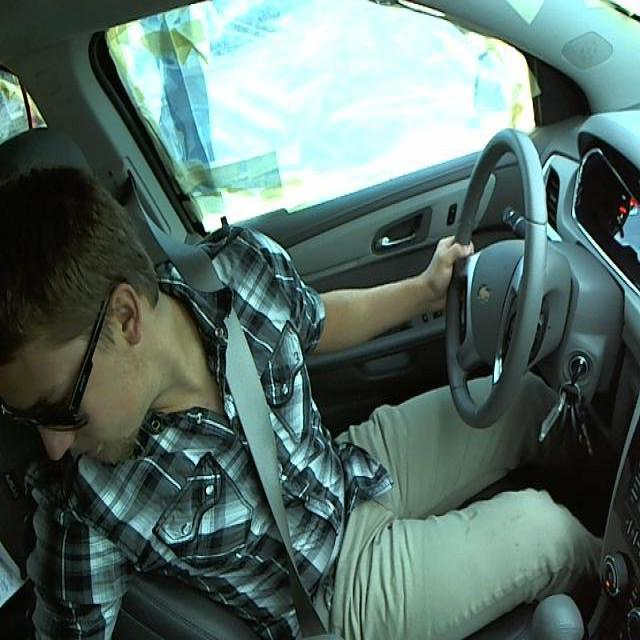seatbelt: (184, 263, 353, 625)
